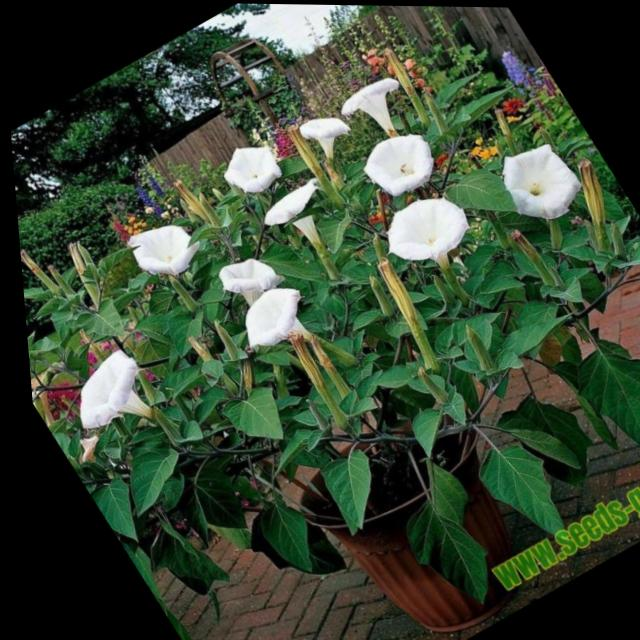Flower: (245, 172, 369, 301), (46, 338, 173, 458), (214, 272, 334, 388), (108, 195, 227, 303), (369, 178, 484, 278), (483, 125, 588, 228), (188, 233, 293, 329), (322, 57, 418, 148), (352, 124, 450, 209), (203, 124, 292, 206), (285, 91, 359, 176)
